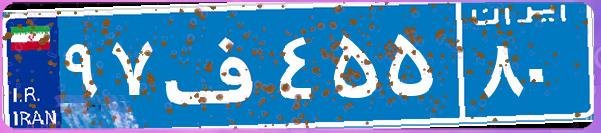0: (525, 38, 570, 115)
4: (273, 28, 330, 110)
5: (385, 28, 445, 110), (330, 28, 385, 110)
7: (110, 28, 158, 105)
8: (475, 38, 525, 113)
9: (57, 26, 110, 107)
ف: (158, 15, 273, 115)
